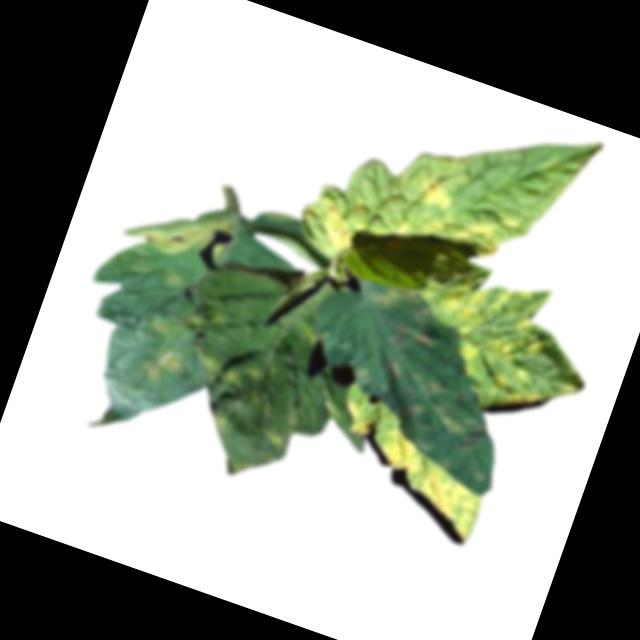Leaf_Mold: (415, 256, 611, 431), (314, 401, 498, 545), (360, 354, 516, 484), (122, 186, 236, 274), (358, 277, 449, 357), (183, 342, 269, 409), (298, 191, 365, 257), (405, 146, 469, 215), (134, 340, 189, 395), (447, 214, 504, 262), (256, 420, 296, 461), (393, 213, 414, 239)
